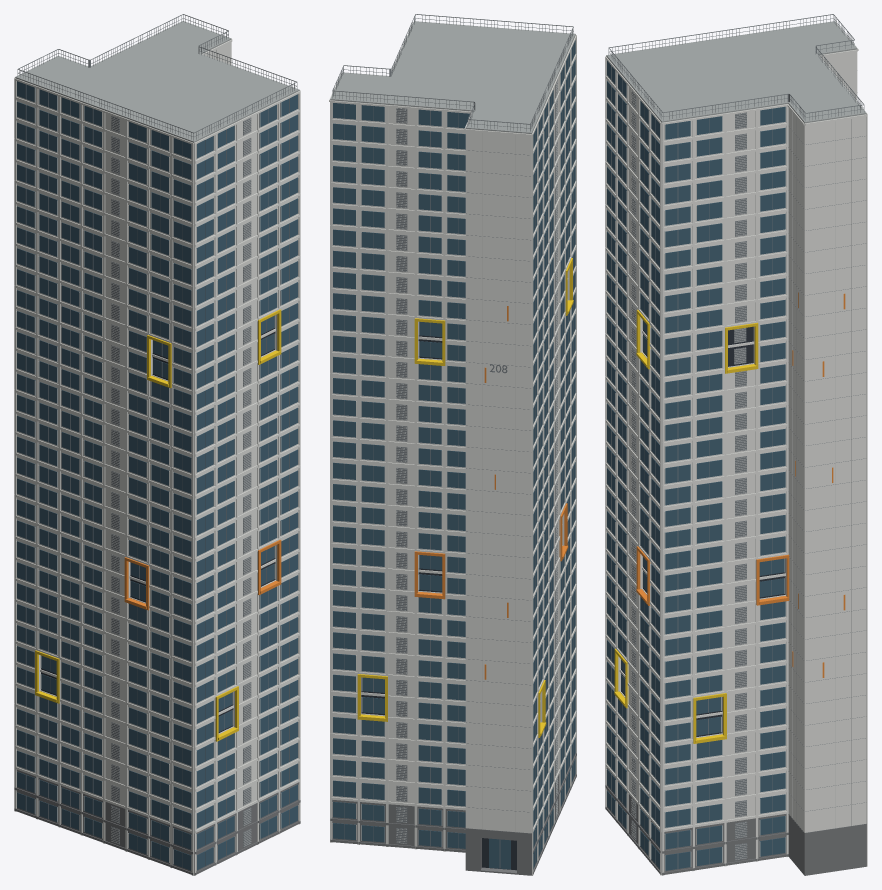
The model's file is bespoke-songpa-helio-city-208.glb.
The picture shows the model from 3 angles, left to right: view 1: azimuth 30°, elevation 25°; view 2: azimuth 150°, elevation 25°; view 3: azimuth 270°, elevation 25°; orthographic projection. The views are drawn at different scales.
Parts seen in each view (by area): view 1: Helio208_editable_Helio208_dark_blue_grey_glazing, Helio208_editable_Helio208_white_slab_frames, Helio208_editable_Helio208_grey_service_grille, Helio208_editable_Helio208_low_roof_deck, Helio208_editable_Helio208_blankwall_grey_panels, Helio208_editable_Helio208_dark_grey_twofloor_base, Helio208_editable_Helio208_yellow_projecting_rectangular_fra, Helio208_editable_Helio208_orange_narrow_accent; view 2: Helio208_editable_Helio208_white_slab_frames, Helio208_editable_Helio208_dark_blue_grey_glazing, Helio208_editable_Helio208_grey_service_grille, Helio208_editable_Helio208_low_roof_deck, Helio208_editable_Helio208_blankwall_grey_panels, Helio208_editable_Helio208_dark_grey_twofloor_base, Helio208_editable_Helio208_yellow_projecting_rectangular_fra, Helio208_editable_Helio208_orange_narrow_accent, Helio208_editable_Helio208_deep_shaded_frame_recess; view 3: Helio208_editable_Helio208_white_slab_frames, Helio208_editable_Helio208_dark_blue_grey_glazing, Helio208_editable_Helio208_grey_service_grille, Helio208_editable_Helio208_low_roof_deck, Helio208_editable_Helio208_blankwall_grey_panels, Helio208_editable_Helio208_dark_grey_twofloor_base, Helio208_editable_Helio208_yellow_projecting_rectangular_fra, Helio208_editable_Helio208_orange_narrow_accent, Helio208_editable_Helio208_deep_shaded_frame_recess.
Boxes of the visible parts, box(x1,y1,x2,y2) form: Helio208_editable_Helio208_dark_blue_grey_glazing: box(17, 81, 297, 870); Helio208_editable_Helio208_white_slab_frames: box(14, 39, 300, 875); Helio208_editable_Helio208_grey_service_grille: box(17, 14, 297, 867); Helio208_editable_Helio208_low_roof_deck: box(15, 21, 299, 142); Helio208_editable_Helio208_blankwall_grey_panels: box(111, 50, 251, 846); Helio208_editable_Helio208_dark_grey_twofloor_base: box(14, 770, 300, 875); Helio208_editable_Helio208_yellow_projecting_rectangular_fra: box(35, 309, 281, 741); Helio208_editable_Helio208_orange_narrow_accent: box(124, 539, 281, 610); Helio208_editable_Helio208_white_slab_frames: box(329, 22, 576, 875); Helio208_editable_Helio208_dark_blue_grey_glazing: box(333, 40, 575, 869); Helio208_editable_Helio208_grey_service_grille: box(332, 14, 573, 868); Helio208_editable_Helio208_low_roof_deck: box(330, 21, 575, 133); Helio208_editable_Helio208_blankwall_grey_panels: box(396, 81, 557, 843); Helio208_editable_Helio208_dark_grey_twofloor_base: box(330, 749, 576, 875); Helio208_editable_Helio208_yellow_projecting_rectangular_fra: box(357, 258, 573, 737); Helio208_editable_Helio208_orange_narrow_accent: box(414, 306, 568, 679); Helio208_editable_Helio208_deep_shaded_frame_recess: box(361, 335, 516, 870); Helio208_editable_Helio208_white_slab_frames: box(605, 22, 867, 875); Helio208_editable_Helio208_dark_blue_grey_glazing: box(607, 61, 785, 870); Helio208_editable_Helio208_grey_service_grille: box(608, 14, 865, 868); Helio208_editable_Helio208_low_roof_deck: box(606, 21, 866, 123); Helio208_editable_Helio208_blankwall_grey_panels: box(631, 90, 851, 859); Helio208_editable_Helio208_dark_grey_twofloor_base: box(605, 767, 866, 875); Helio208_editable_Helio208_yellow_projecting_rectangular_fra: box(614, 309, 758, 743); Helio208_editable_Helio208_orange_narrow_accent: box(636, 292, 845, 677); Helio208_editable_Helio208_deep_shaded_frame_recess: box(621, 326, 785, 736).
Bounding box in the file's own units: 28.46 × 99 × 30.93.
